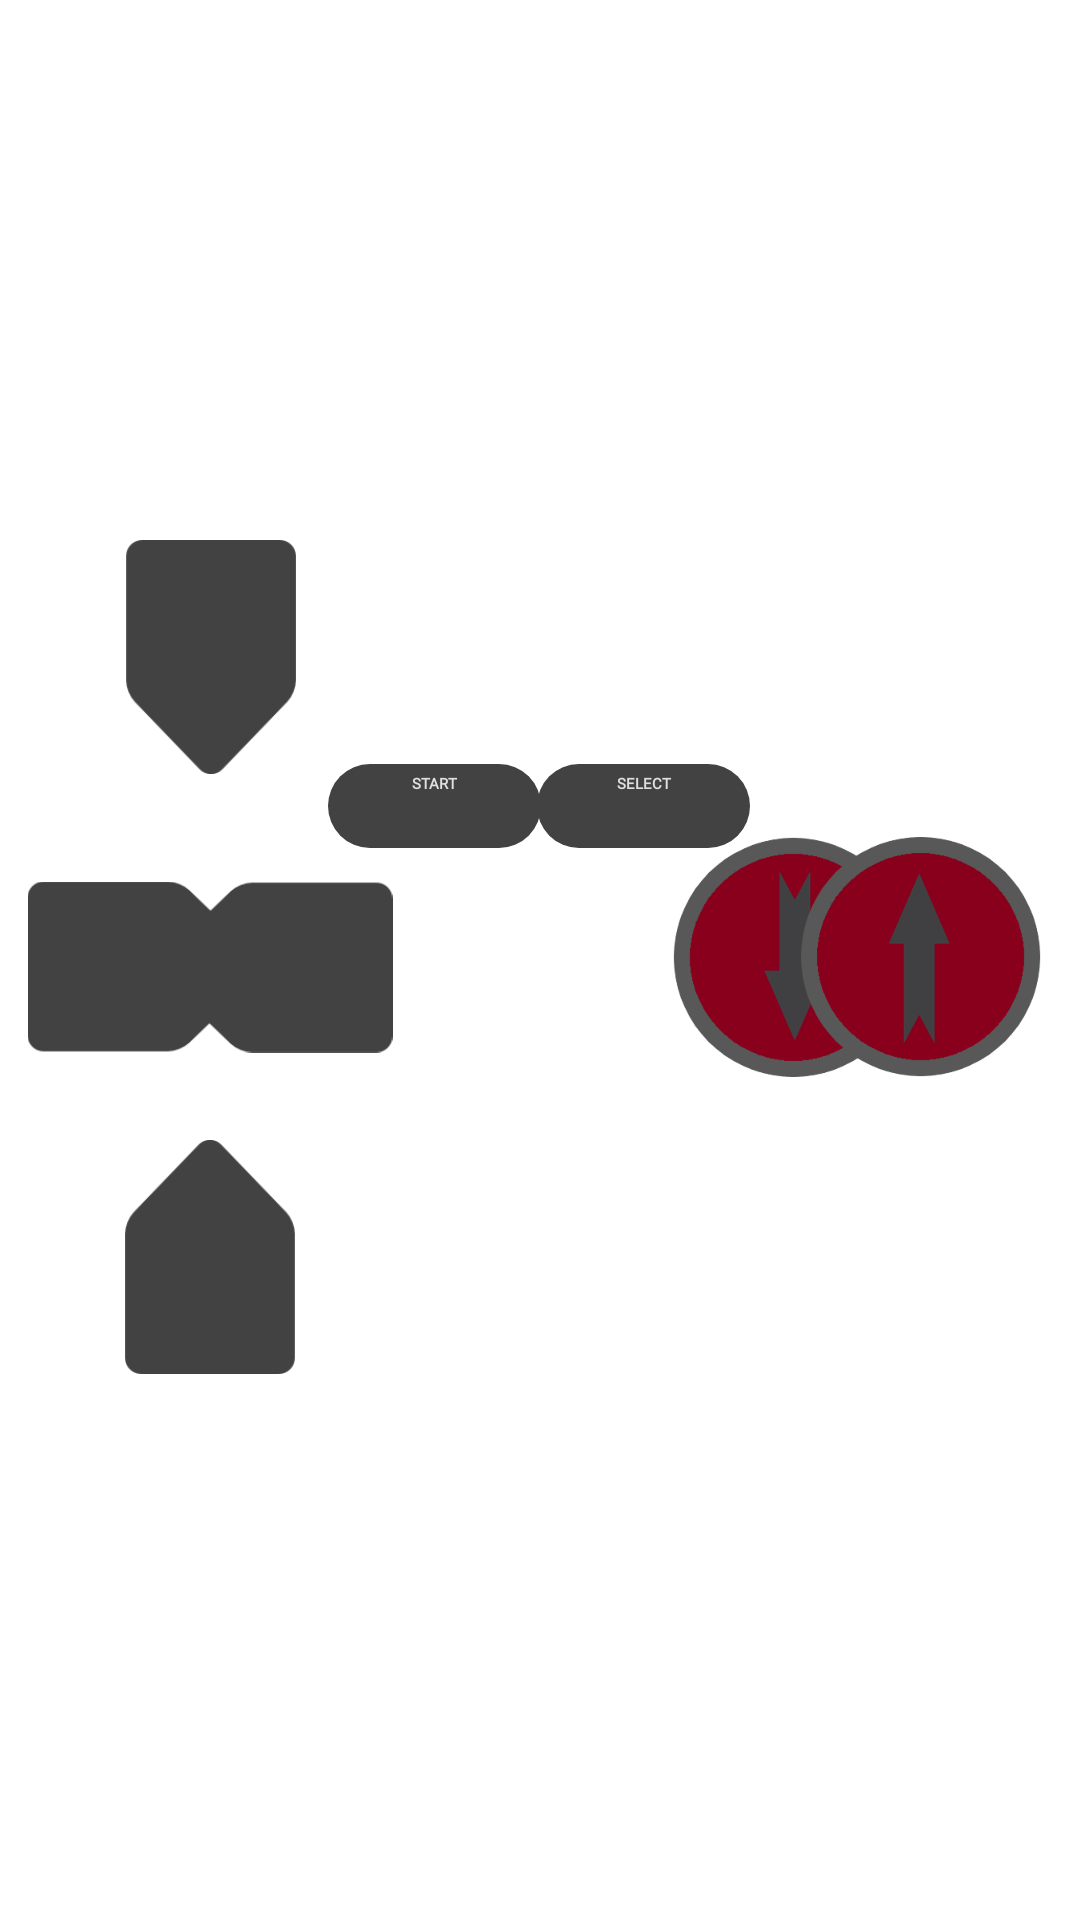

Locate icon controls on the screen. Image size 1080 × 1920, boxes as (x1=x1, y1=y1, x2=x2, y2=y2).
rojo abajo: (x1=673, y1=837, x2=913, y2=1077)
rojo arriba: (x1=801, y1=837, x2=1040, y2=1077)
